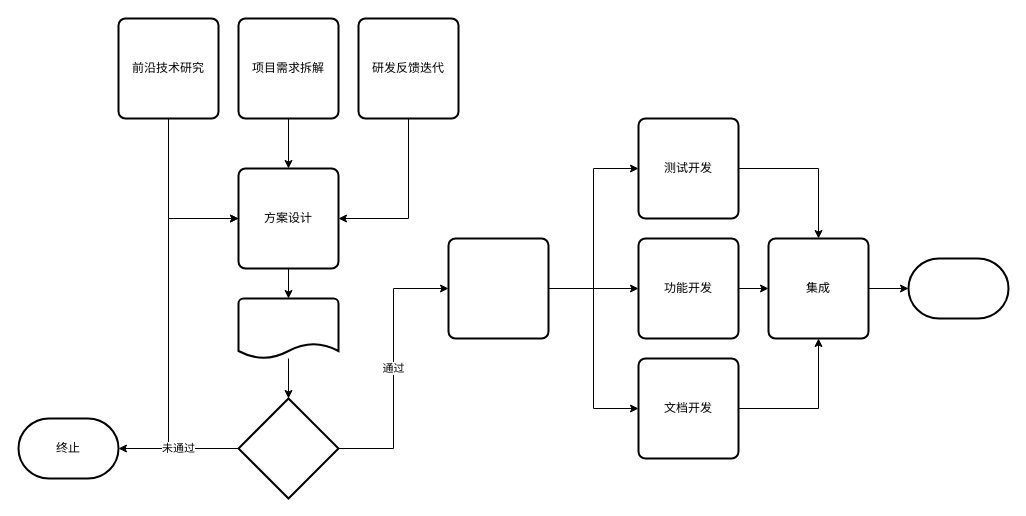
The diagram is 1026 pixels wide and 516 high, and some of its shapes have lost their labels. The shapes that lost their labels are listed below. From the top down, each one's centre as x and y in pixels, then its label:
At point 498,288: "排期".
At point 958,288: "验收完成".
At point 288,328: "feature SPEC".
At point 288,448: "技术评审".
